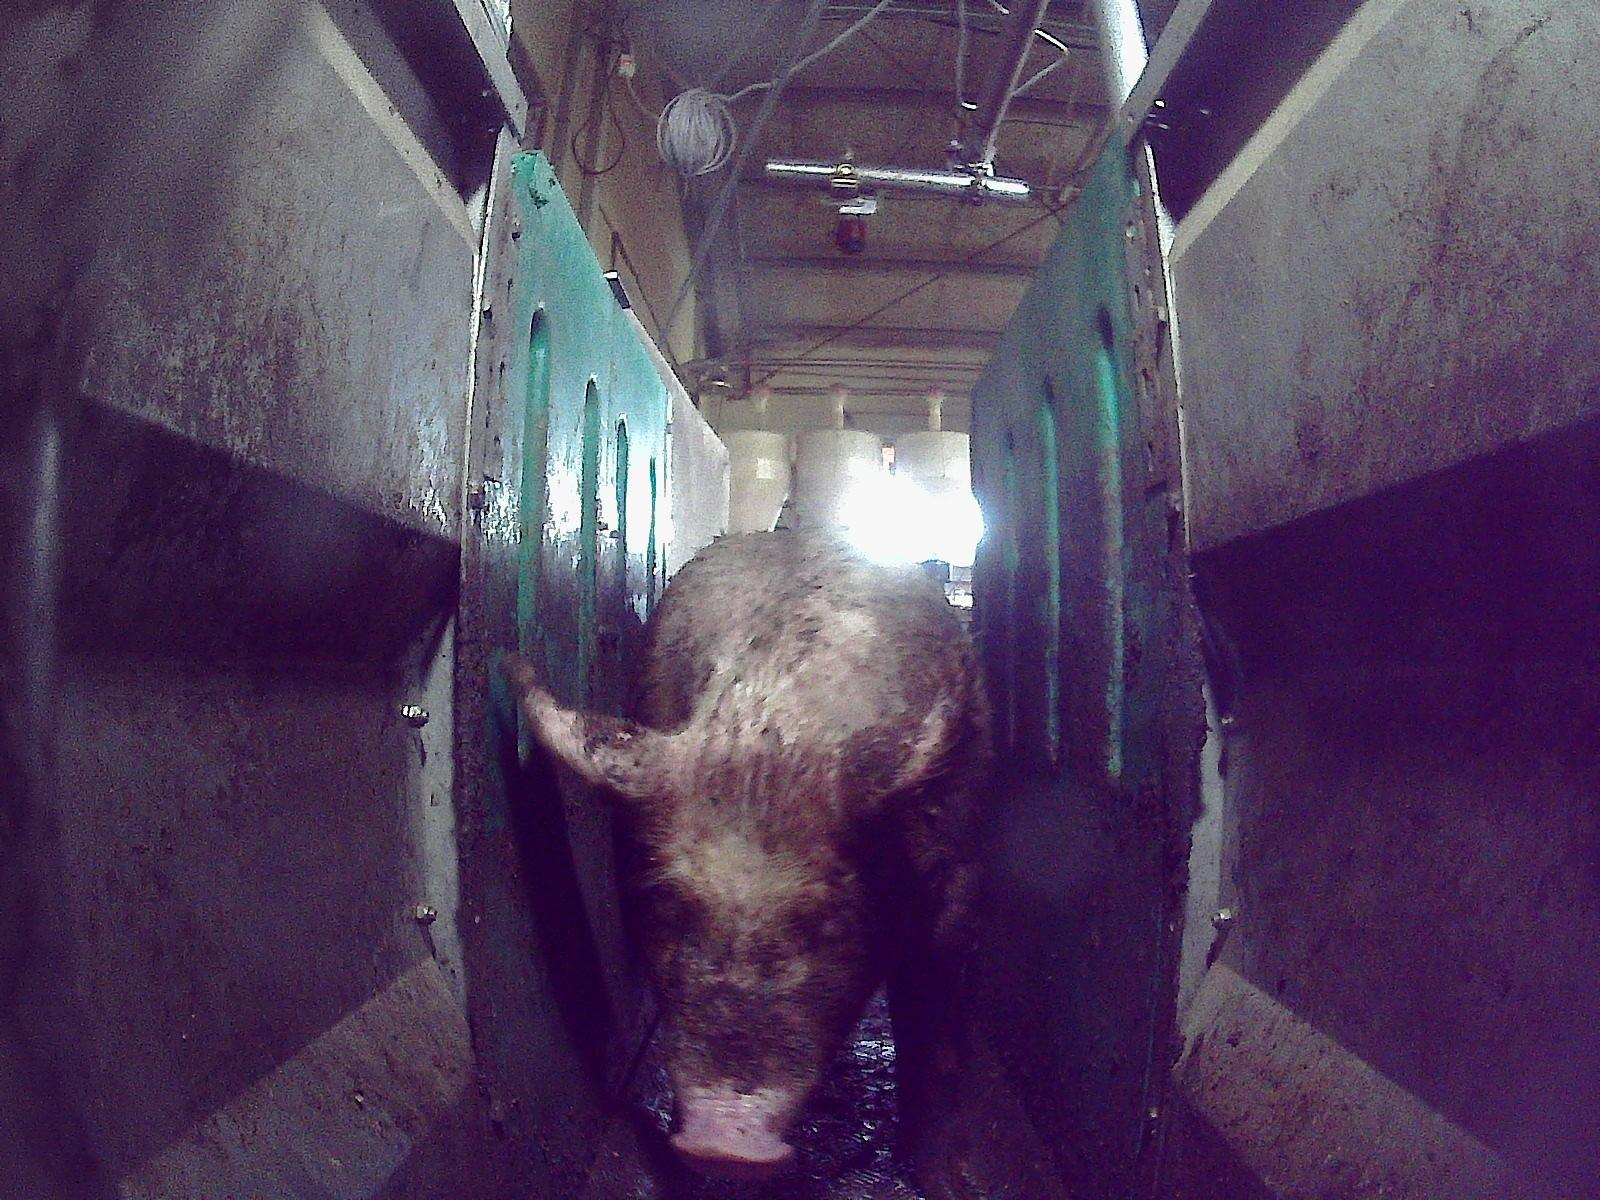Face: (631, 743, 884, 1176)
